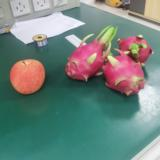apple: (10, 59, 46, 94)
pitaya: (102, 48, 146, 95), (65, 37, 106, 80), (119, 33, 154, 65)
